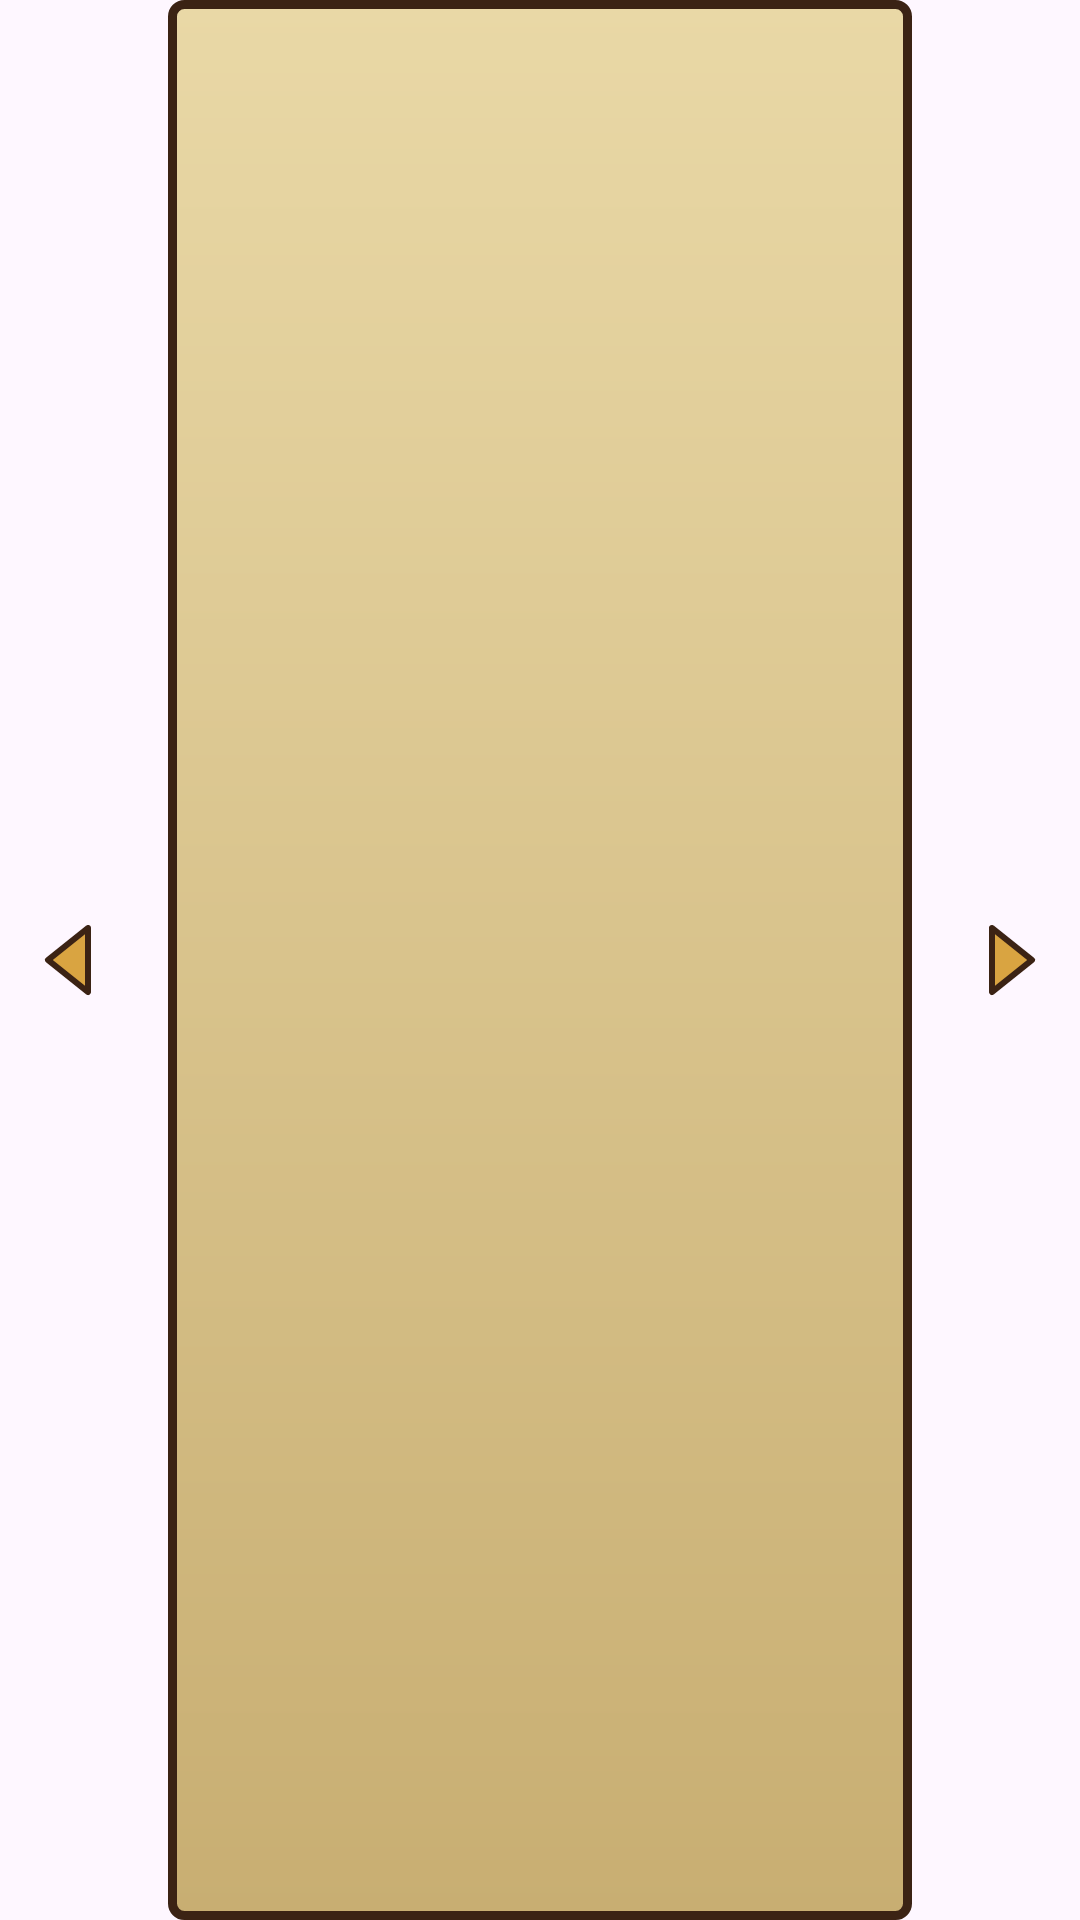

Where to tap for icons on this 1080w x 1920h app screen, as (x,y):
Peça anterior: (67,960)
Próxima peça: (1012,960)
